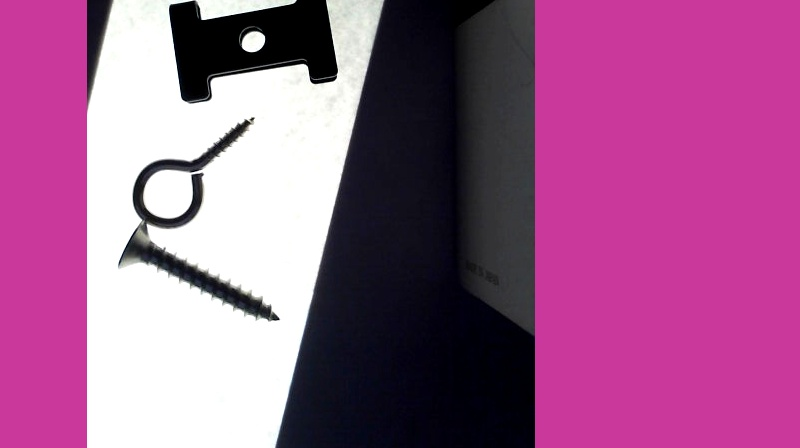O001: (128, 110, 259, 227)
O002: (165, 0, 339, 104)
S001: (116, 221, 282, 323)
